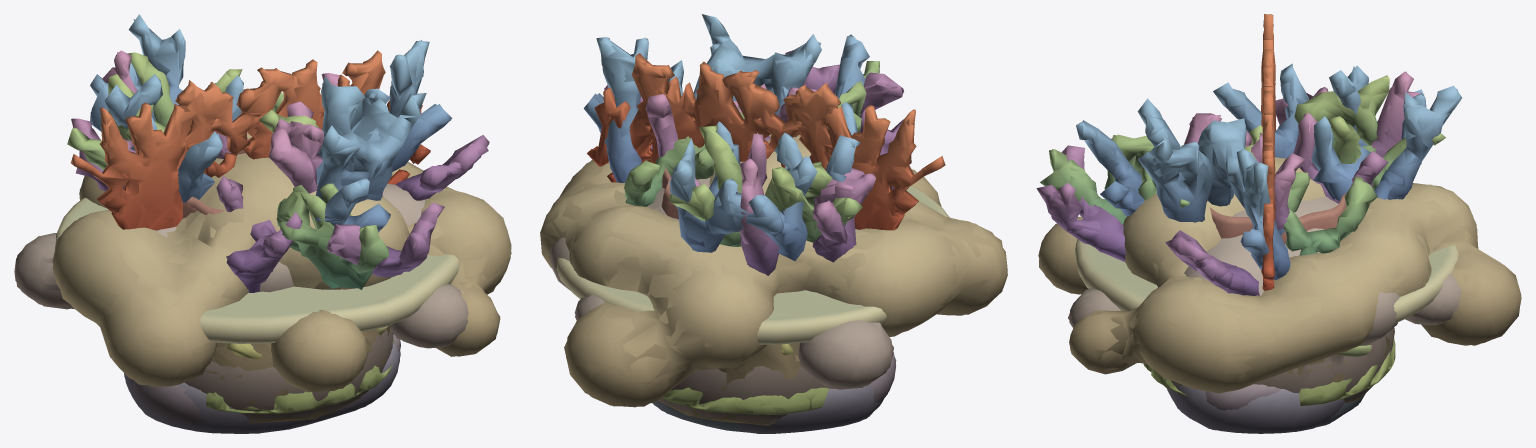
Rendered from gbr_cosy.glb.
3 views of the same model, side by side, from view 1: azimuth 30°, elevation 25°; view 2: azimuth 150°, elevation 25°; view 3: azimuth 270°, elevation 25° (orthographic). The views are drawn at different scales.
Parts seen in each view (by area): view 1: porites_0, porites_0_lo, staghorn_2, seafan_0, table_0, staghorn_0, porites_1, staghorn_2_lo, seafan_0_lo, staghorn_1, staghorn_0_lo, porites_1_lo (+7 smaller); view 2: porites_0, porites_0_lo, seafan_0, staghorn_2, porites_1, staghorn_2_lo, seafan_0_lo, staghorn_0, staghorn_1, table_0, staghorn_0_lo, porites_1_lo (+6 smaller); view 3: porites_0, porites_0_lo, staghorn_2, staghorn_2_lo, staghorn_0, staghorn_1, porites_1, staghorn_0_lo, table_0, staghorn_1_lo, rock_0, seafan_0 (+7 smaller).
Part boxes in pixels (x1,y1,x2,y2): porites_0: (52, 133, 511, 423); porites_0_lo: (52, 136, 511, 422); staghorn_2: (90, 14, 452, 231); seafan_0: (71, 50, 430, 230); table_0: (55, 197, 459, 343); staghorn_0: (71, 50, 489, 292); porites_1: (14, 184, 468, 421); staghorn_2_lo: (90, 19, 450, 232); seafan_0_lo: (72, 57, 430, 228); staghorn_1: (67, 52, 388, 289); staghorn_0_lo: (72, 52, 488, 292); porites_1_lo: (16, 183, 467, 417); porites_0: (541, 134, 1007, 424); porites_0_lo: (540, 135, 1006, 425); seafan_0: (587, 53, 945, 230); staghorn_2: (583, 14, 869, 254); porites_1: (550, 177, 892, 422); staghorn_2_lo: (584, 16, 869, 261); seafan_0_lo: (587, 60, 942, 230); staghorn_0: (600, 50, 903, 274); staghorn_1: (624, 61, 879, 246); table_0: (556, 185, 949, 344); staghorn_0_lo: (604, 67, 903, 275); porites_1_lo: (550, 187, 893, 423); porites_0: (1038, 158, 1521, 402); porites_0_lo: (1039, 157, 1521, 402); staghorn_2: (1076, 63, 1461, 279); staghorn_2_lo: (1079, 66, 1460, 279); staghorn_0: (1036, 71, 1420, 295); staghorn_1: (1040, 75, 1445, 255); porites_1: (1069, 196, 1461, 401); staghorn_0_lo: (1044, 71, 1409, 295); table_0: (1075, 239, 1458, 322); staghorn_1_lo: (1052, 90, 1439, 254); rock_0: (1167, 385, 1345, 433); seafan_0: (1261, 14, 1275, 290).
Bounding box in the file's own units: 1.85 × 1.4 × 2.01.
